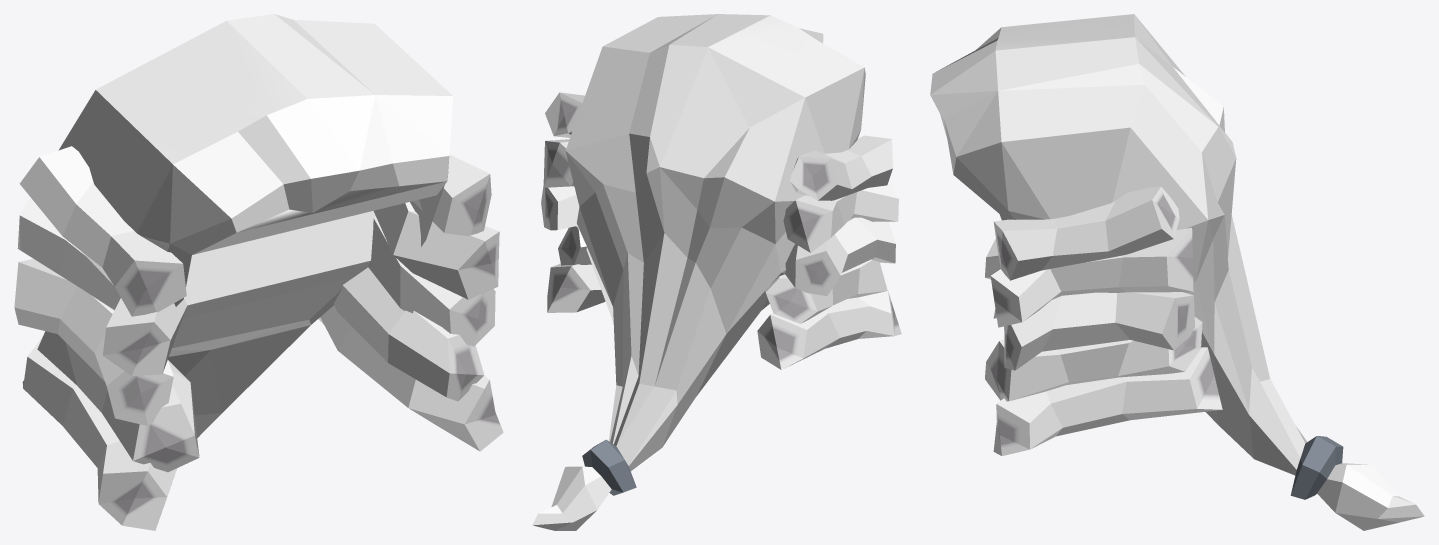
The model's file is SM_Chr_Attach_Hair_F_02.fbx.
3 renders of one model, left to right at view 1: azimuth 30°, elevation 25°; view 2: azimuth 150°, elevation 25°; view 3: azimuth 270°, elevation 25°, orthographic. The views are drawn at different scales.
Parts seen in each view (by area): view 1: SM_Chr_Attach_Hair_F_02; view 2: SM_Chr_Attach_Hair_F_02; view 3: SM_Chr_Attach_Hair_F_02.
Part boxes in pixels (x1,y1,x2,y2): SM_Chr_Attach_Hair_F_02: (14, 14, 503, 530); SM_Chr_Attach_Hair_F_02: (532, 14, 901, 530); SM_Chr_Attach_Hair_F_02: (930, 14, 1424, 530).
Size of the model in its own units: 34.1 by 45.43 by 42.76.
